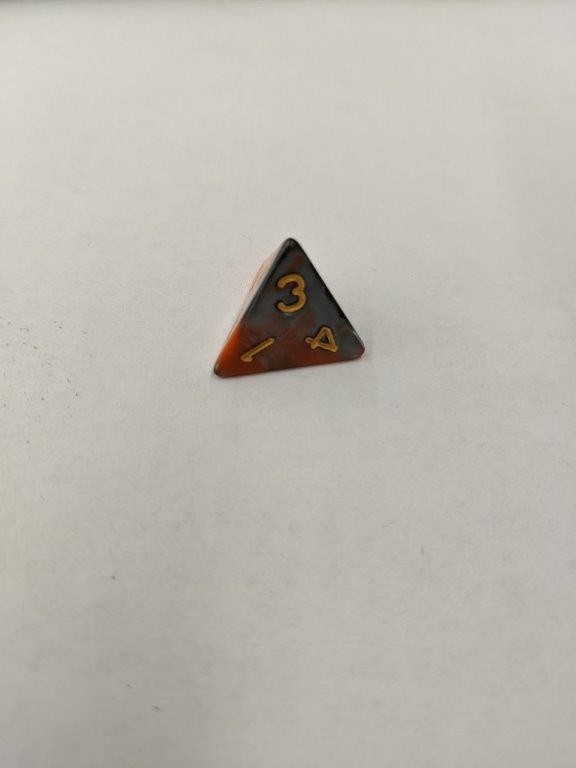d4-3: (208, 231, 371, 381)
